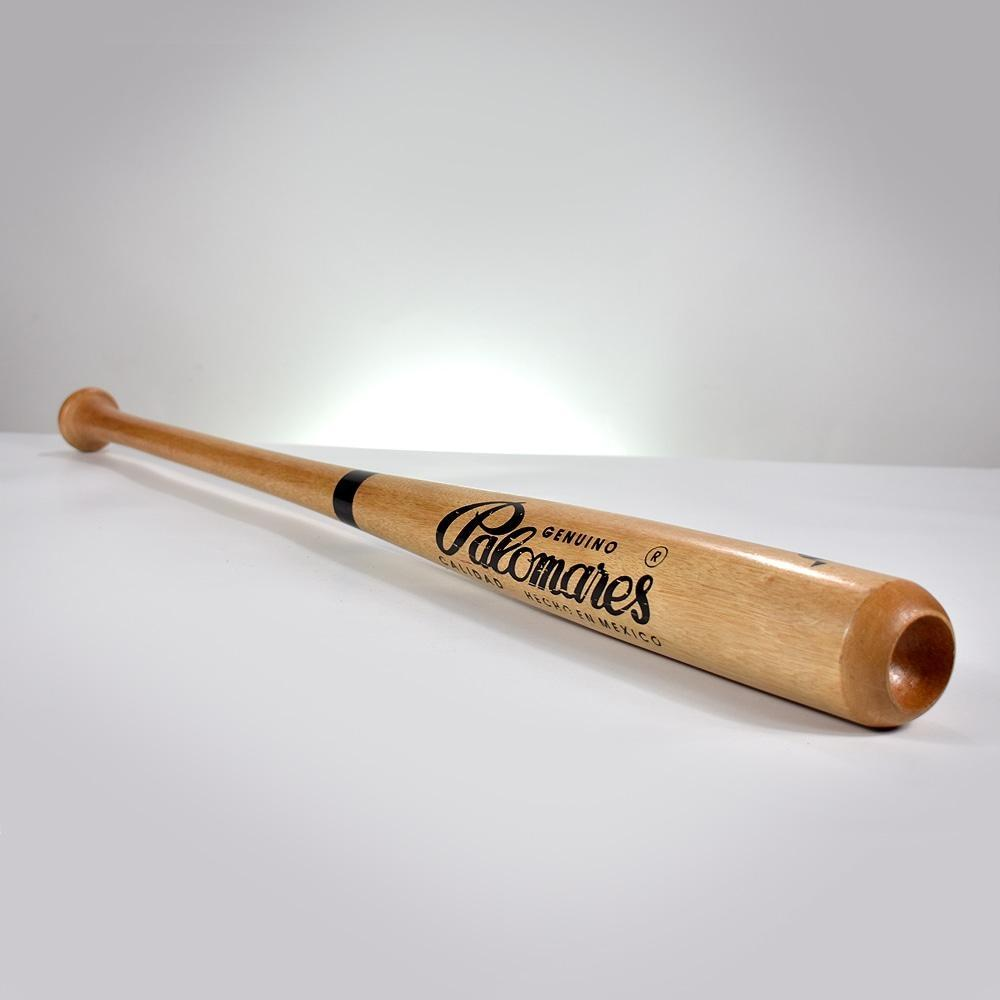Baseball-Bat: (25, 340, 1000, 768)
